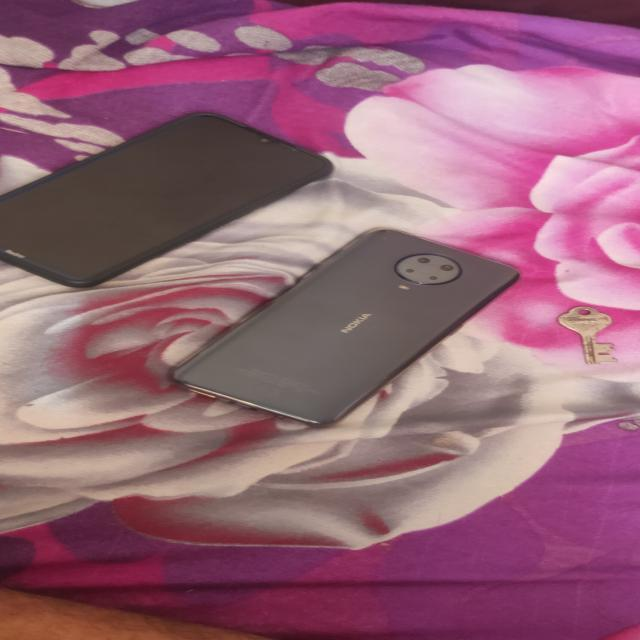Phone: (164, 226, 528, 432), (6, 107, 341, 292)
